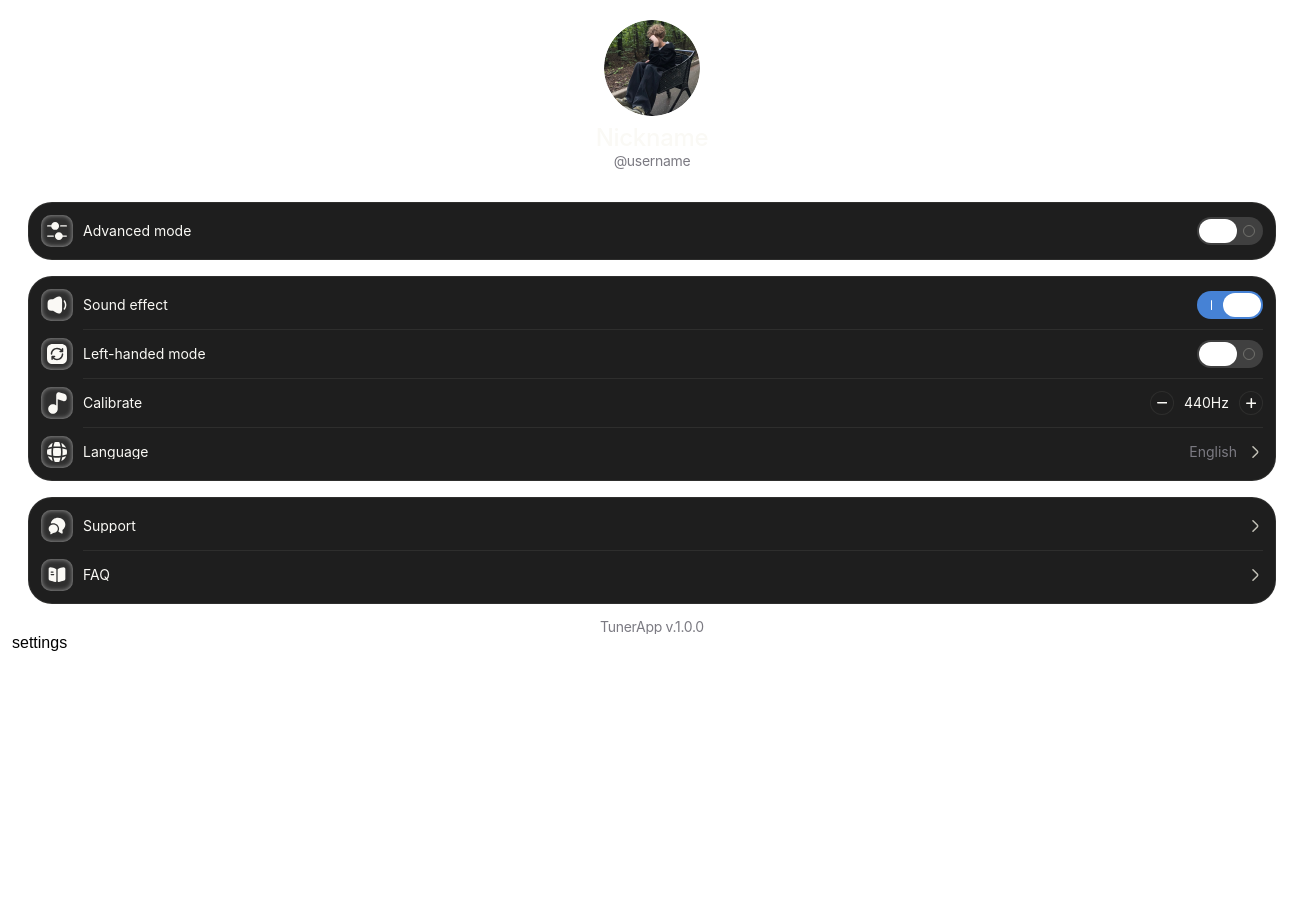
Scenario: SettingsScreen › navigates to the FAQ screen when the FAQ row is tapped
Step 1. Click the button "FAQ" → (57, 575), box [41, 559, 1263, 591]
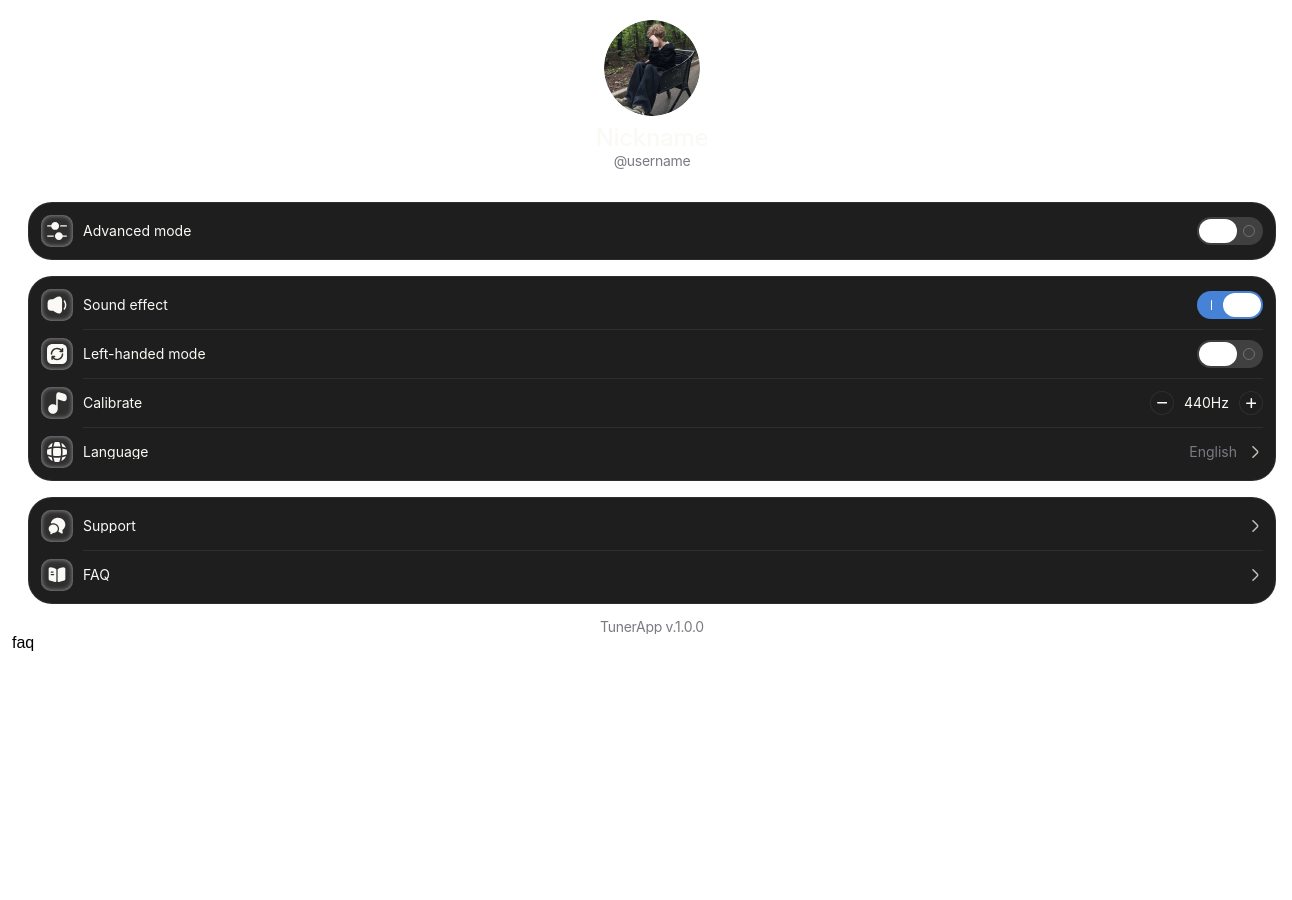
Expected: the text with test id "current-screen" reads "faq", [12, 634, 34, 651]
